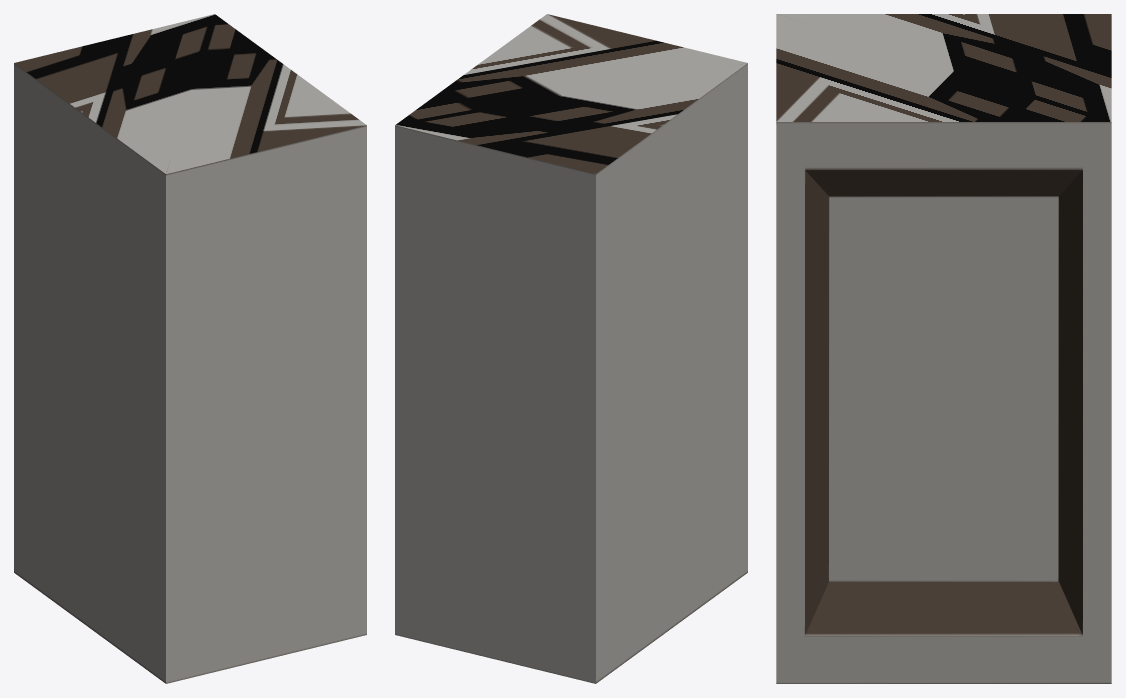
The model's file is Wall_Middle_Bevel.fbx.
3 renders of one model, left to right at view 1: azimuth 30°, elevation 25°; view 2: azimuth 150°, elevation 25°; view 3: azimuth 270°, elevation 25°, orthographic. The views are drawn at different scales.
Parts seen in each view (by area): view 1: Wall_Ver_BEVEL:pCube1; view 2: Wall_Ver_BEVEL:pCube1; view 3: Wall_Ver_BEVEL:pCube1.
Boxes of the visible parts, box(x1,y1,x2,y2) form: Wall_Ver_BEVEL:pCube1: box(14, 14, 366, 683); Wall_Ver_BEVEL:pCube1: box(395, 14, 747, 683); Wall_Ver_BEVEL:pCube1: box(776, 14, 1111, 683).
Size of the model in its own units: 76.27 by 185 by 100.
1 material, 1 textured.
